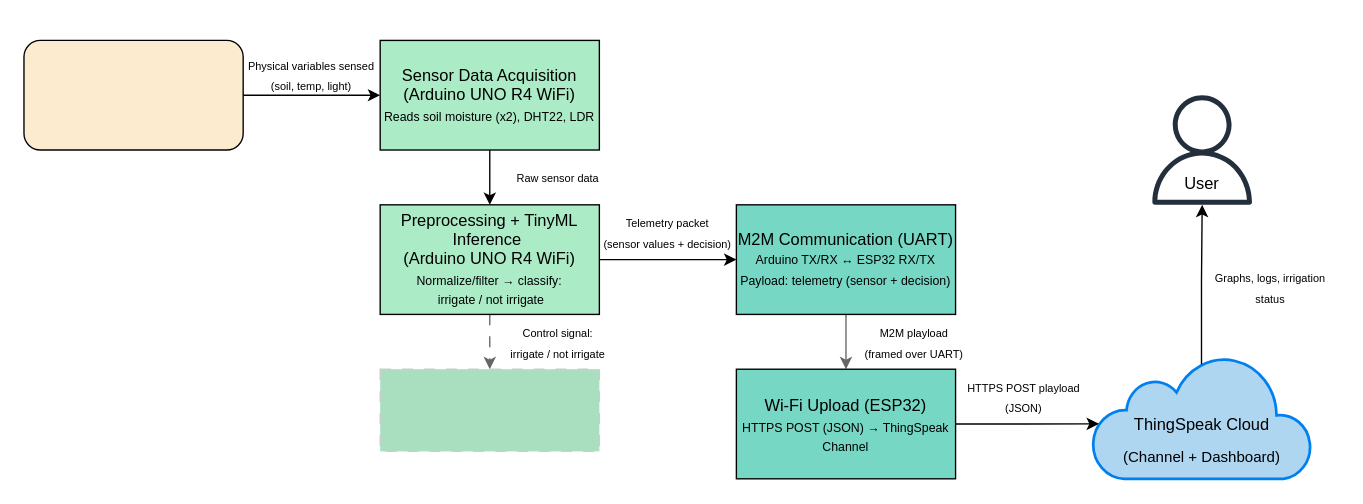
Image size: 1363x504. Some labels were removed from this diagram. The centre of each missing label's shape, as x and y in pixels:
Field Environment Soil moisture Temperature Light intensity: point (133, 94)
Pump Control Digital GPIO → driver (TIP120) → peristaltic pump: point (489, 409)
